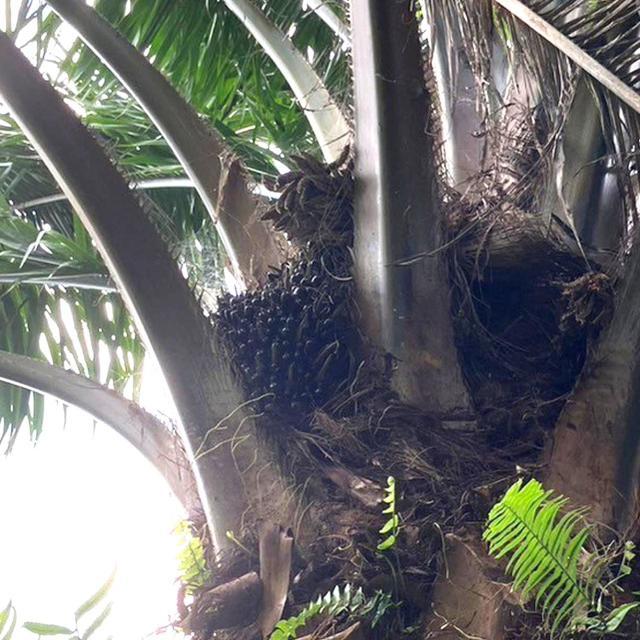unripe: (189, 232, 365, 462)
